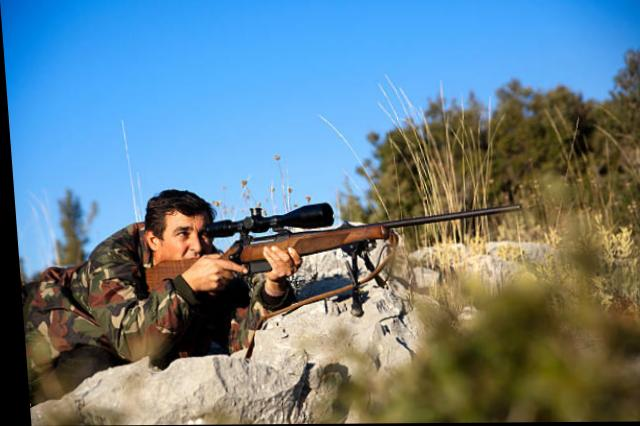other: (11, 191, 284, 349)
